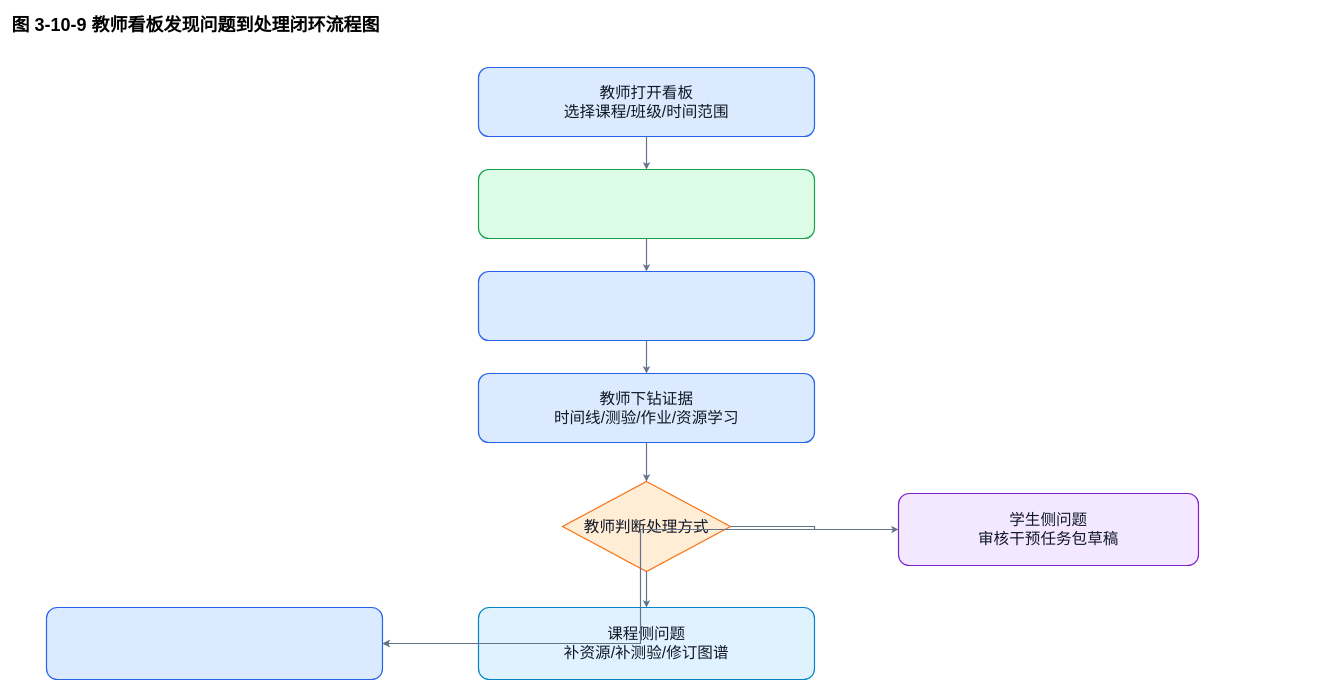
This 1328x690 diagram has some shape labels left out. Here are the shapes that lost their labels. From the top down, the centre of each, then its label:
At (x=646, y=204): "系统汇总状态 画像/诊断/课程健康/任务结果".
At (x=646, y=306): "教师查看问题列表 风险学生/薄弱点/资源缺口".
At (x=214, y=643): "教师确认并执行 下发任务或提交课程维护".
